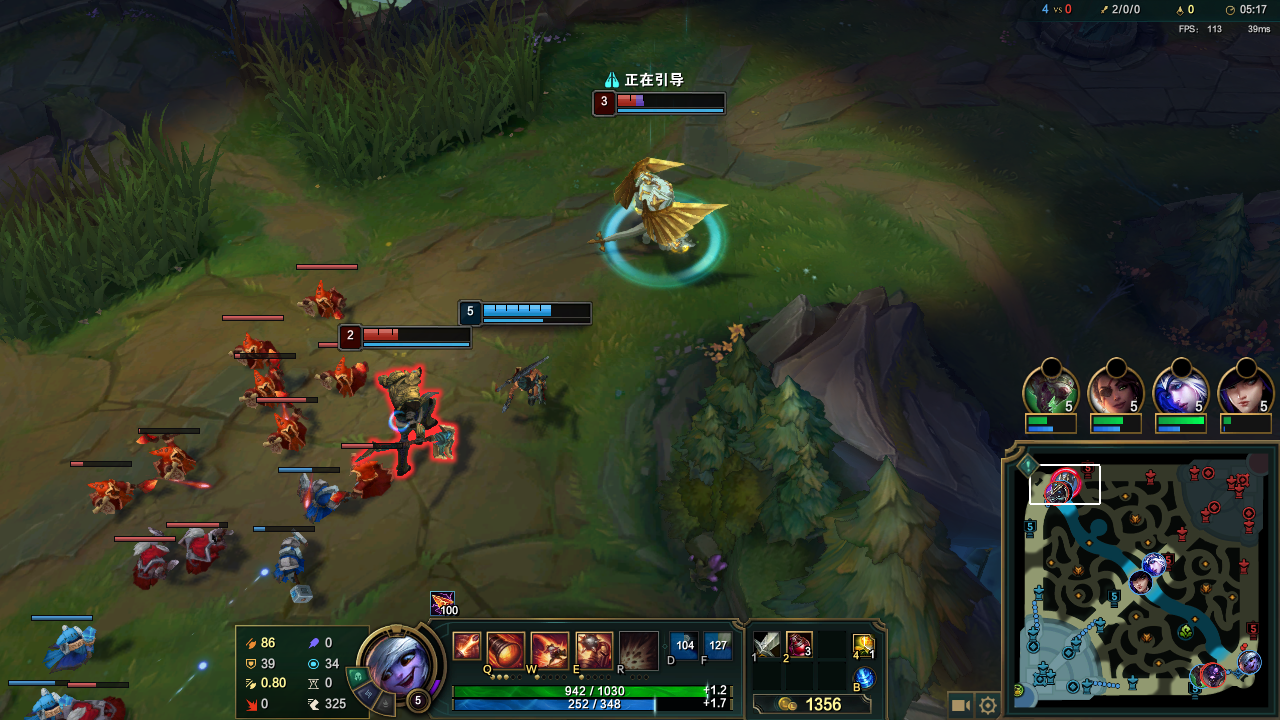DFXB: (334, 448, 404, 514), (116, 531, 181, 596), (147, 436, 206, 507), (175, 522, 235, 584), (228, 361, 289, 411), (259, 409, 314, 460), (82, 469, 134, 522), (224, 326, 283, 371), (313, 351, 368, 396), (292, 282, 350, 322), (75, 689, 124, 720)
DFYX: (615, 97, 735, 114), (361, 326, 465, 344)
WFXB: (256, 531, 327, 602), (40, 622, 105, 674), (287, 477, 352, 527), (13, 689, 74, 718)
